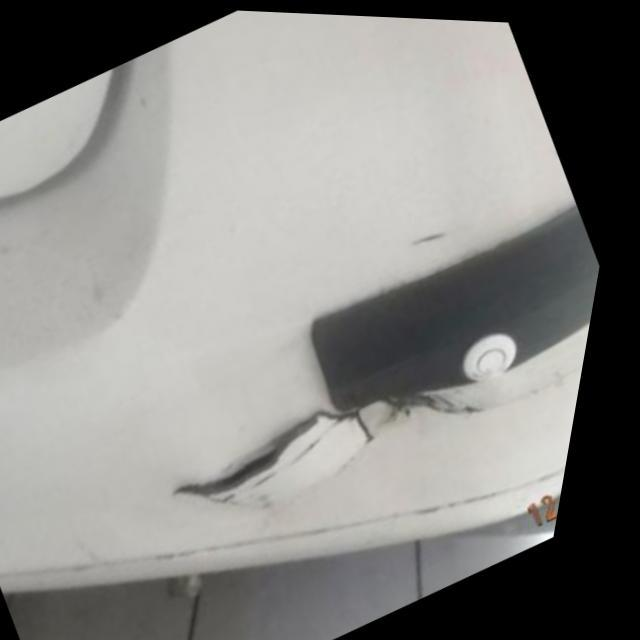crack: (188, 349, 596, 505)
